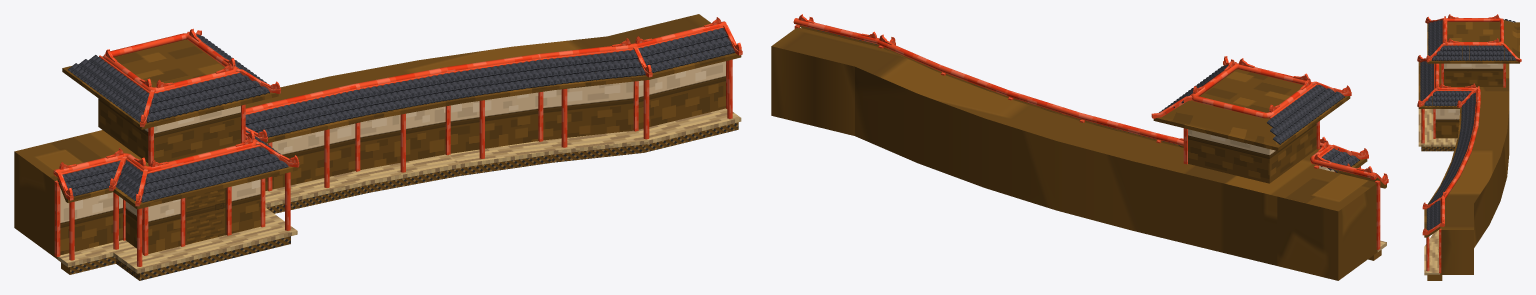
File: Templo.FBX
3 renders of one model, left to right at view 1: azimuth 30°, elevation 25°; view 2: azimuth 150°, elevation 25°; view 3: azimuth 270°, elevation 25°, orthographic. The views are drawn at different scales.
Visible parts, largest first — view 1: Box1132, Tejas, Box1133, Box1134, Box1154, Box1135, Box1155, Cylinder012, Decoraciones, Cylinder028, Cylinder034, Box1140; view 2: Box1132, Box1155, Box1154, Cylinder012, Tejas, Cylinder028, Box1135, Decoraciones; view 3: Box1132, Tejas, Box1155, Box1154, Box1133, Cylinder012, Cylinder028, Box1135, Decoraciones, Box1134, Cylinder014, Cylinder022 (+5 smaller).
Part boxes in pixels (x1=…): Box1132: x1=14, y1=14, x2=725, y2=259; Tejas: x1=62, y1=28, x2=735, y2=202; Box1133: x1=57, y1=108, x2=741, y2=273; Box1134: x1=61, y1=122, x2=738, y2=280; Box1154: x1=98, y1=98, x2=240, y2=163; Box1135: x1=57, y1=53, x2=741, y2=209; Box1155: x1=62, y1=39, x2=278, y2=129; Cylinder012: x1=54, y1=21, x2=726, y2=175; Decoraciones: x1=59, y1=17, x2=741, y2=202; Cylinder028: x1=103, y1=33, x2=237, y2=91; Cylinder034: x1=269, y1=48, x2=633, y2=109; Box1140: x1=54, y1=180, x2=60, y2=256; Box1132: x1=771, y1=27, x2=1377, y2=280; Box1155: x1=1153, y1=69, x2=1350, y2=150; Box1154: x1=1188, y1=123, x2=1316, y2=183; Cylinder012: x1=793, y1=18, x2=1377, y2=179; Tejas: x1=806, y1=27, x2=1359, y2=175; Cylinder028: x1=1191, y1=63, x2=1312, y2=118; Box1135: x1=797, y1=25, x2=1386, y2=188; Decoraciones: x1=798, y1=14, x2=1387, y2=181; Box1132: x1=1435, y1=63, x2=1509, y2=274; Tejas: x1=1420, y1=19, x2=1515, y2=230; Box1155: x1=1427, y1=20, x2=1519, y2=63; Box1154: x1=1444, y1=63, x2=1503, y2=86; Box1133: x1=1418, y1=109, x2=1457, y2=275; Cylinder012: x1=1435, y1=63, x2=1480, y2=226; Cylinder028: x1=1443, y1=18, x2=1503, y2=44; Box1135: x1=1418, y1=62, x2=1461, y2=237; Decoraciones: x1=1417, y1=14, x2=1499, y2=232; Box1134: x1=1421, y1=146, x2=1454, y2=280; Cylinder014: x1=1421, y1=109, x2=1424, y2=143; Cylinder022: x1=1426, y1=236, x2=1429, y2=271.
Bounding box in the file's own units: 35.98 × 9.2 × 8.44.
Materials: 8 (8 with a texture image).
